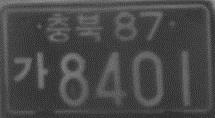0: (131, 50, 165, 108)
1: (178, 49, 193, 109)
4: (91, 49, 128, 108)
7: (138, 9, 163, 43)
8: (58, 51, 90, 108), (113, 9, 137, 43)
가: (12, 50, 48, 91)
충북_O: (44, 11, 105, 43)
